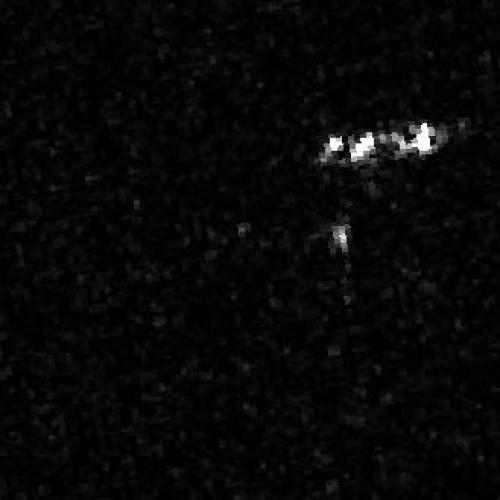ship: (313, 120, 452, 170)
